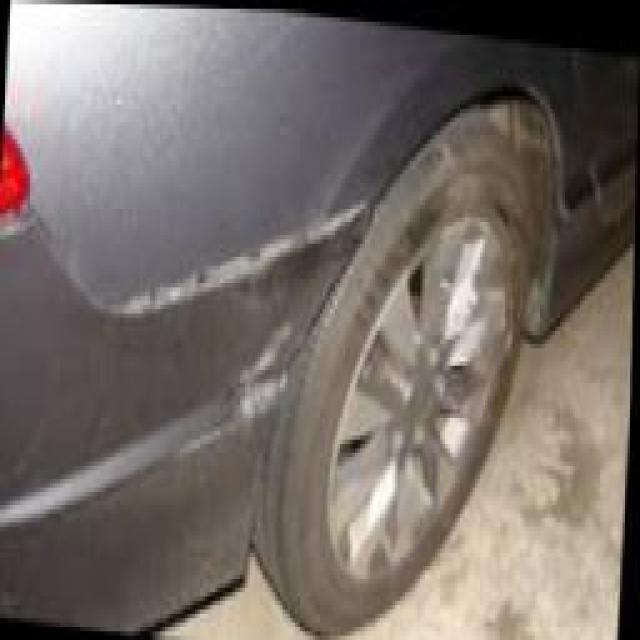Bumper: (162, 204, 365, 607)
